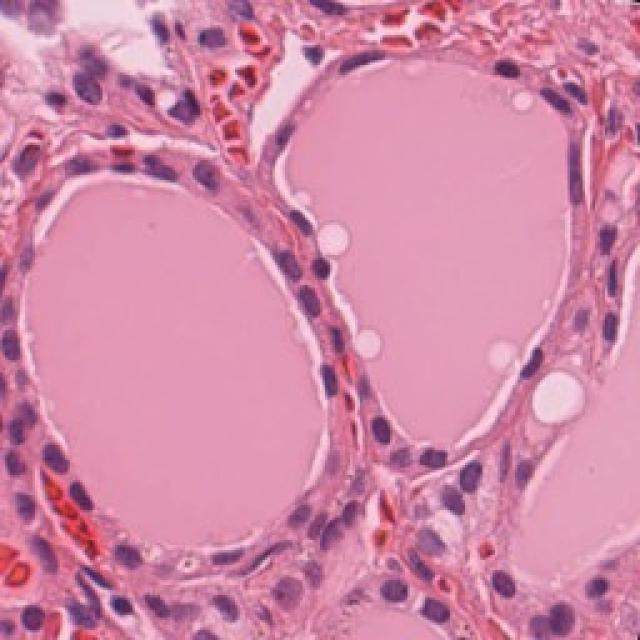normal: (272, 272, 350, 330), (502, 331, 566, 401), (398, 430, 470, 488), (340, 413, 412, 470), (467, 548, 528, 612), (47, 130, 108, 193), (432, 454, 496, 514), (173, 150, 240, 207), (102, 525, 158, 593), (524, 586, 590, 640), (20, 433, 80, 492), (532, 75, 593, 133), (371, 562, 426, 622), (51, 470, 106, 527), (250, 246, 312, 291), (302, 360, 355, 408), (0, 313, 35, 382)
